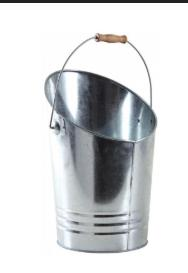SEAU: (43, 0, 181, 273)
